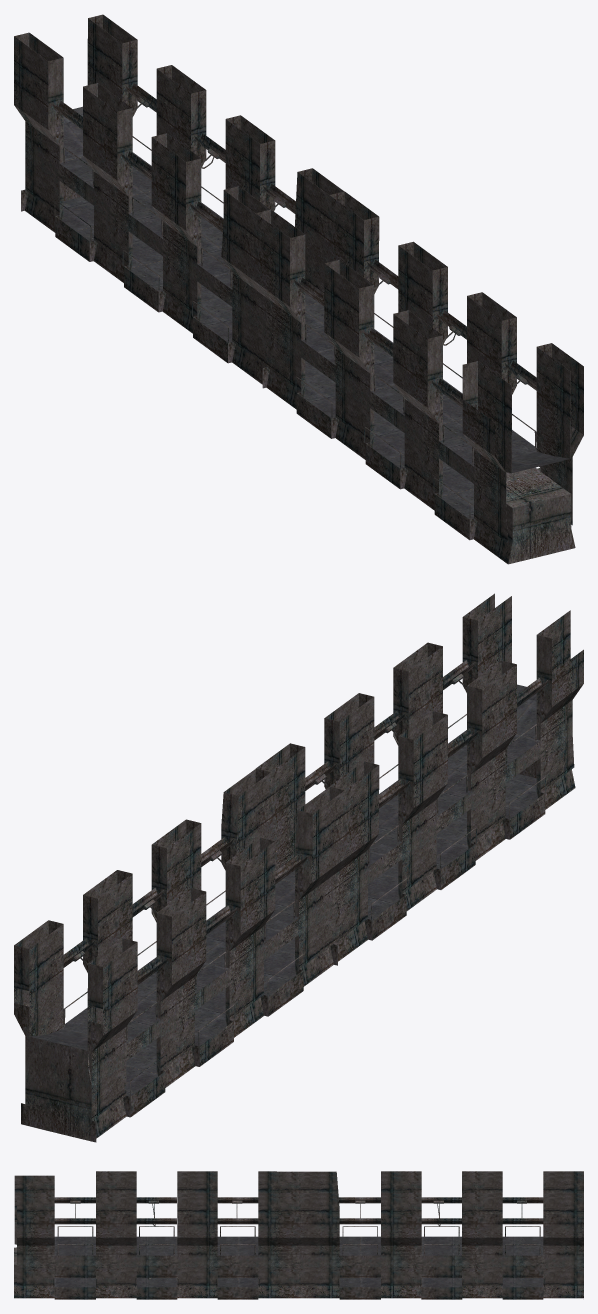
File: Bridge.fbx
3 renders of one model, top to bottom at view 1: azimuth 30°, elevation 25°; view 2: azimuth 150°, elevation 25°; view 3: azimuth 270°, elevation 25°, orthographic. The views are drawn at different scales.
Parts seen in each view (by area): view 1: Bridge.001; view 2: Bridge.001; view 3: Bridge.001.
Part boxes in pixels (x1,y1,x2,y2): Bridge.001: (14, 14, 583, 564); Bridge.001: (14, 593, 583, 1142); Bridge.001: (14, 1171, 583, 1299).
Bounding box in the file's own units: 1788 × 3399 × 16802.
2 materials, 2 textured.
